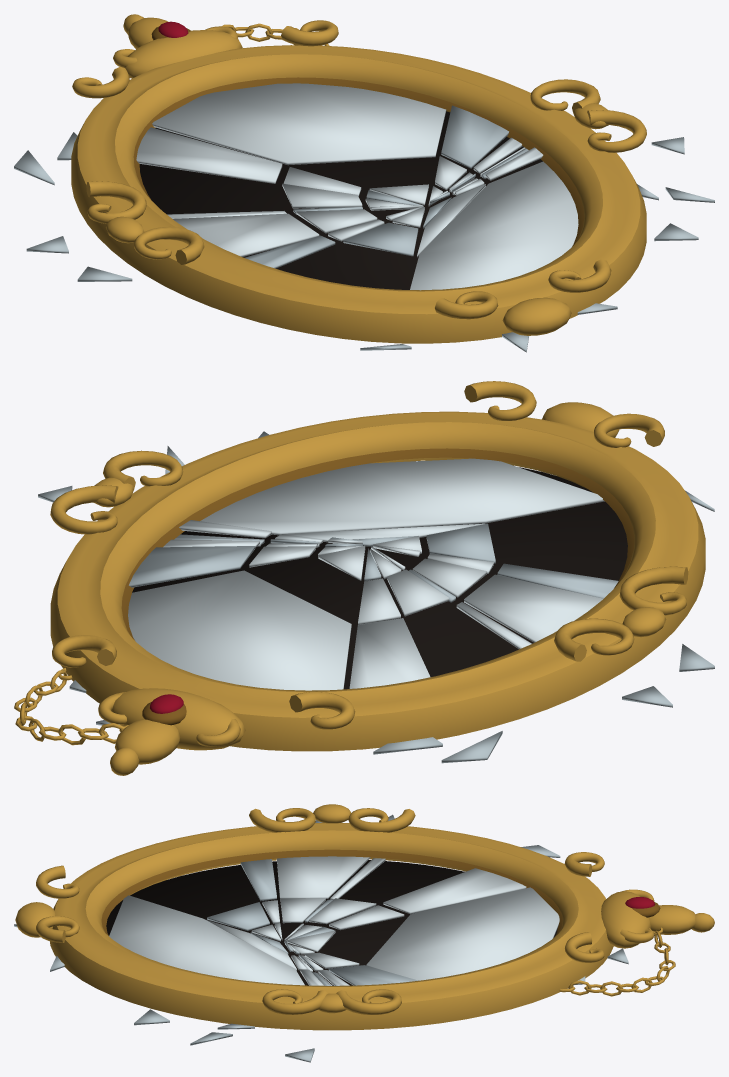
File: PR_BrokenMirror.fbx
3 renders of one model, top to bottom at view 1: azimuth 30°, elevation 25°; view 2: azimuth 150°, elevation 25°; view 3: azimuth 270°, elevation 25°, orthographic. The views are drawn at different scales.
Visible parts, largest first — view 1: PR_BrokenMirror_Gold, PR_BrokenMirror_Pale, PR_BrokenMirror_Back, PR_BrokenMirror_Shard, PR_BrokenMirror_GoldDark; view 2: PR_BrokenMirror_Gold, PR_BrokenMirror_Pale, PR_BrokenMirror_Back, PR_BrokenMirror_Shard, PR_BrokenMirror_GoldDark; view 3: PR_BrokenMirror_Gold, PR_BrokenMirror_Pale, PR_BrokenMirror_Back, PR_BrokenMirror_Shard, PR_BrokenMirror_GoldDark.
Part boxes in pixels (x1=…): PR_BrokenMirror_Gold: x1=71, y1=14, x2=646, y2=343; PR_BrokenMirror_Pale: x1=136, y1=83, x2=578, y2=290; PR_BrokenMirror_Back: x1=139, y1=111, x2=542, y2=289; PR_BrokenMirror_Shard: x1=14, y1=105, x2=714, y2=352; PR_BrokenMirror_GoldDark: x1=133, y1=26, x2=584, y2=246; PR_BrokenMirror_Gold: x1=14, y1=381, x2=705, y2=775; PR_BrokenMirror_Pale: x1=128, y1=458, x2=604, y2=690; PR_BrokenMirror_Back: x1=132, y1=467, x2=627, y2=689; PR_BrokenMirror_Shard: x1=38, y1=431, x2=714, y2=763; PR_BrokenMirror_GoldDark: x1=121, y1=448, x2=634, y2=725; PR_BrokenMirror_Gold: x1=15, y1=804, x2=714, y2=1030; PR_BrokenMirror_Pale: x1=109, y1=856, x2=559, y2=985; PR_BrokenMirror_Back: x1=106, y1=860, x2=557, y2=985; PR_BrokenMirror_Shard: x1=14, y1=814, x2=628, y2=1062; PR_BrokenMirror_GoldDark: x1=101, y1=849, x2=660, y2=935.
Size of the model in its own units: 0.9461 by 0.0798 by 1.14.
